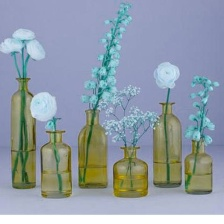bottle: (7, 74, 39, 193), (149, 99, 184, 191), (74, 107, 111, 191), (36, 127, 75, 200), (111, 145, 152, 199), (183, 133, 217, 196)
